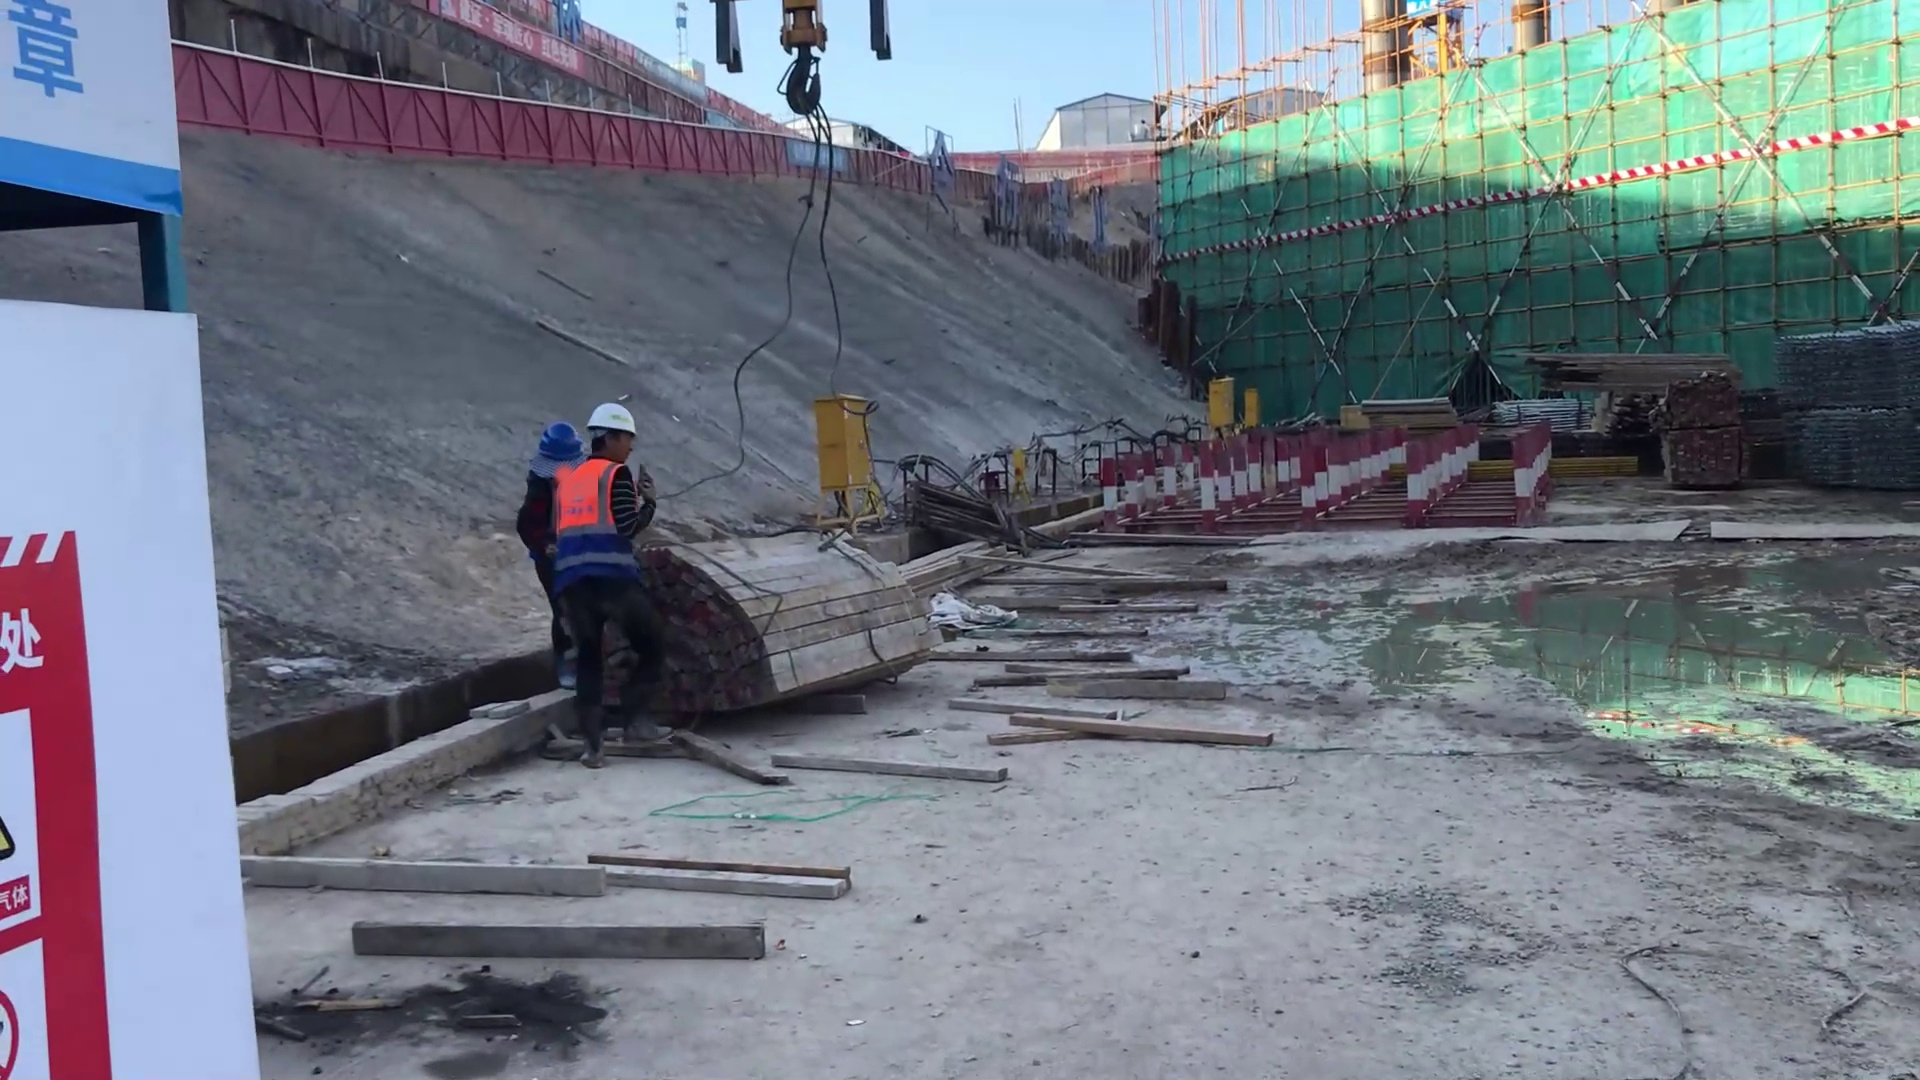ebox: (816, 388, 870, 493), (1206, 377, 1234, 430), (1242, 381, 1258, 425)
fence: (173, 39, 501, 167), (493, 101, 800, 174)
helmet: (579, 403, 637, 471), (523, 419, 577, 466)
person: (551, 396, 683, 756), (516, 420, 578, 594)
vest: (558, 458, 635, 532)
wood: (958, 465, 1266, 794), (684, 524, 930, 712), (1507, 342, 1762, 413)
